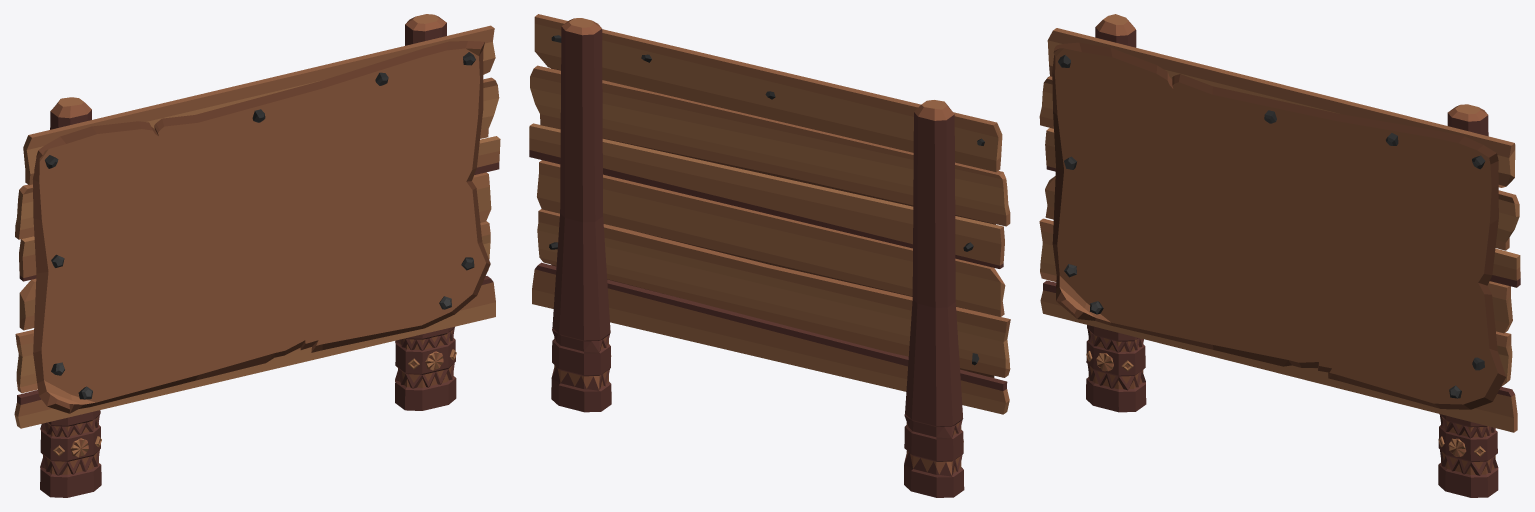
The model's file is demands_board.fbx.
3 views of the same model, side by side, from view 1: azimuth 30°, elevation 25°; view 2: azimuth 150°, elevation 25°; view 3: azimuth 330°, elevation 25° (orthographic).
Parts seen in each view (by area): view 1: demands_board, pillar_left, pillar_right; view 2: demands_board, pillar_left, pillar_right; view 3: demands_board, pillar_left, pillar_right.
Part boxes in pixels (x1,y1,x2,y2): demands_board: (14,25,500,428); pillar_left: (40,97,101,497); pillar_right: (395,14,456,410); demands_board: (529,14,1010,414); pillar_left: (904,100,964,497); pillar_right: (551,18,611,412); demands_board: (1039,28,1520,432); pillar_left: (1086,14,1146,412); pillar_right: (1438,104,1498,497).
Bounding box in the file's own units: 3.87 × 2.97 × 0.4339.
